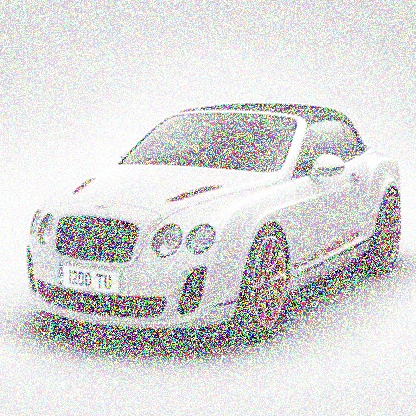Vehicle: (23, 98, 404, 344)
